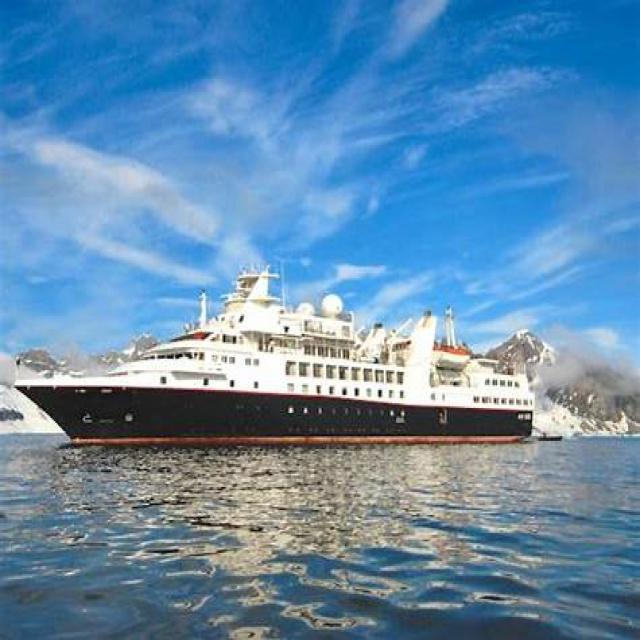PassengerShip: (0, 163, 593, 498)
